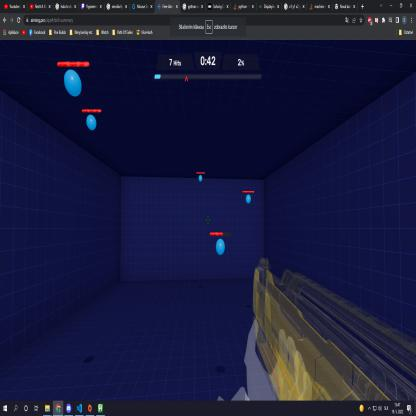sphere: (62, 68, 84, 101), (85, 114, 98, 132), (215, 238, 226, 256), (246, 194, 251, 204), (198, 174, 204, 182)
